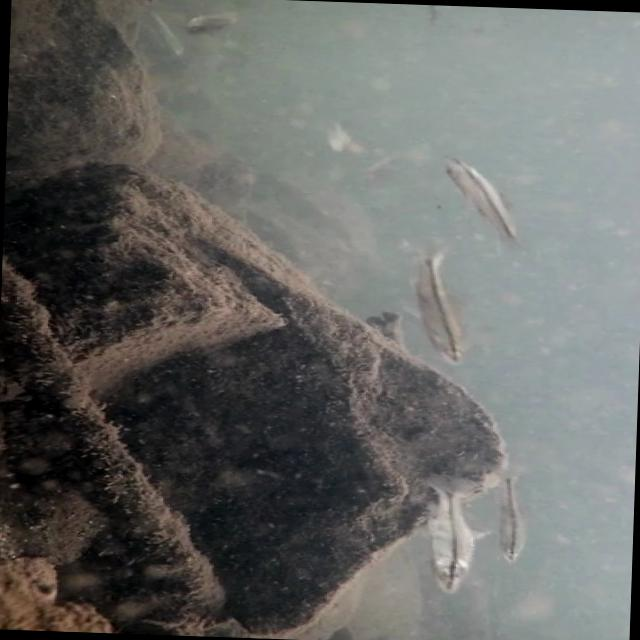Cakil Baligi: (406, 472, 486, 602), (427, 156, 528, 248), (492, 474, 530, 569)
